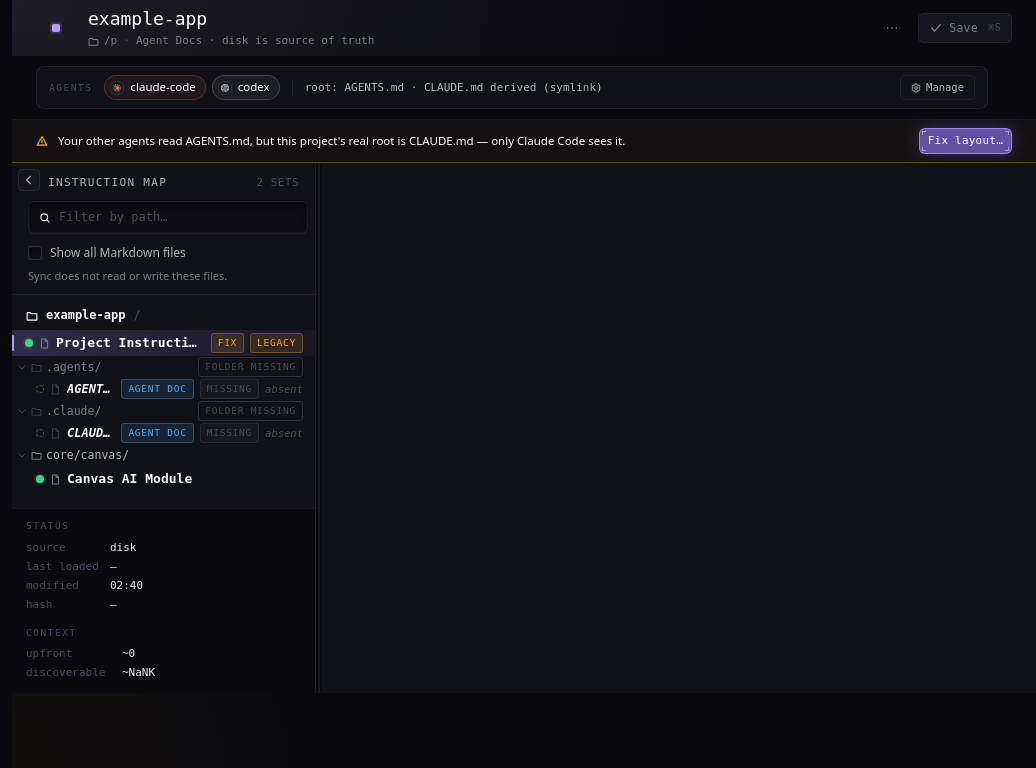
Test: AgentDocsView › switches from the instruction-set map to the raw Markdown tree when toggled on
Expected: the text "Instruction map" is shown, [48,175,167,191]
Expected: the text "Project Instructions" is shown, [56,334,205,353]
Click the checkbox with test id "agent-docs-show-all-markdown" at x=107, y=253, box [28,244,186,262]
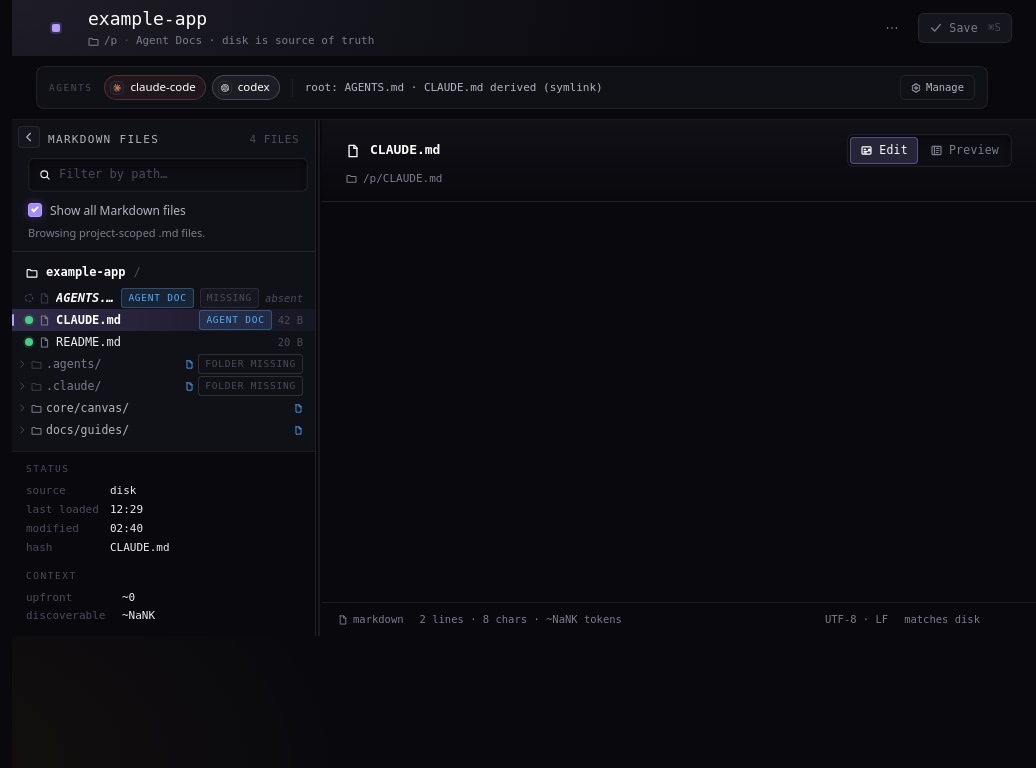
Result: the text "Markdown files" is shown at [48,132,159,148]
Result: the text "Instruction map" is gone
Result: the button "Project Instructions" is gone
Click the text "docs/guides/" at x=88, y=430, box [46,423,129,437]
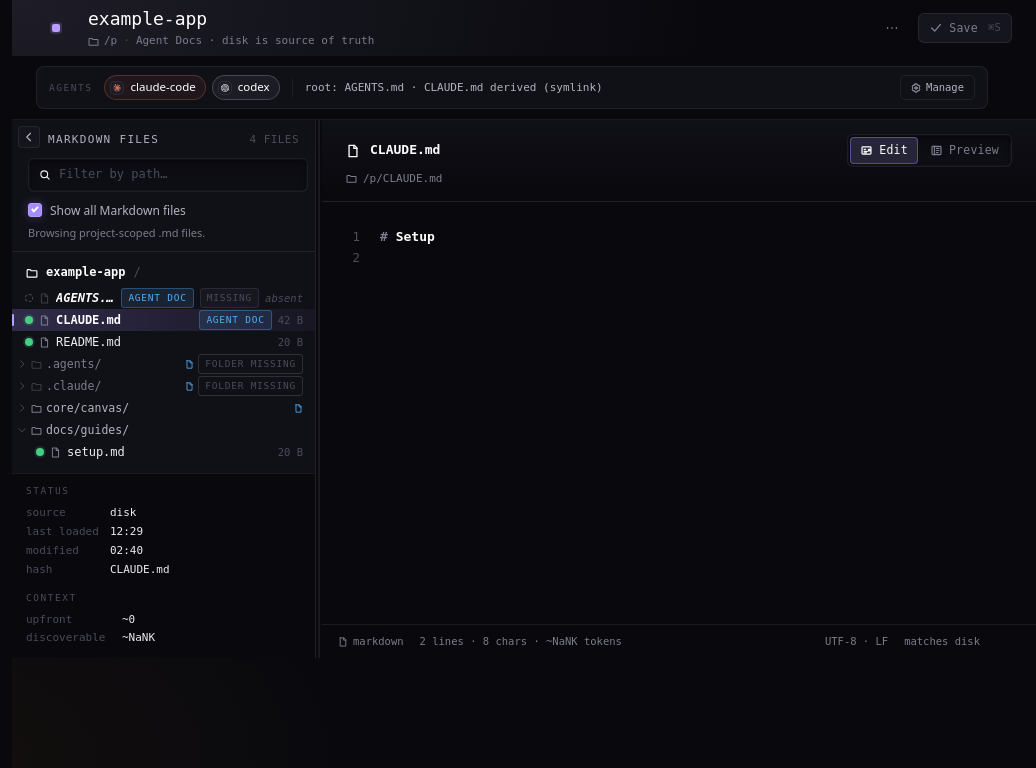
Result: the text "setup.md" is shown at [67,445,125,459]
